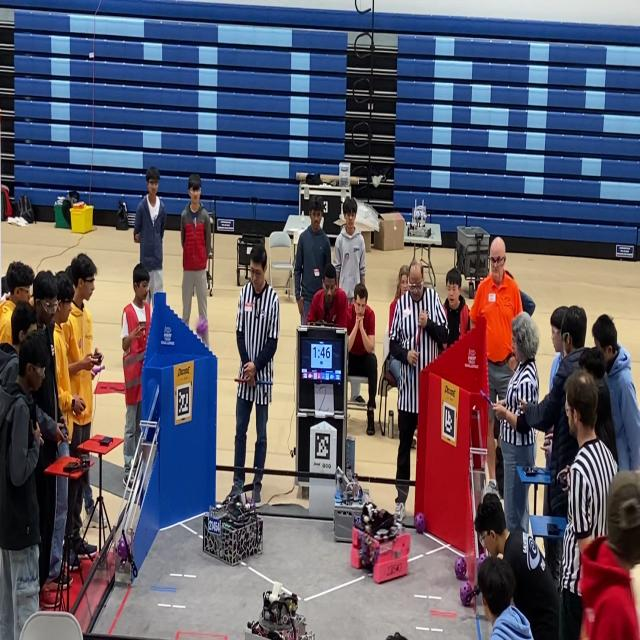artifact_purple: (460, 581, 473, 606), (117, 534, 128, 561), (455, 558, 466, 580), (196, 318, 208, 337), (415, 513, 425, 534), (477, 553, 487, 569)
